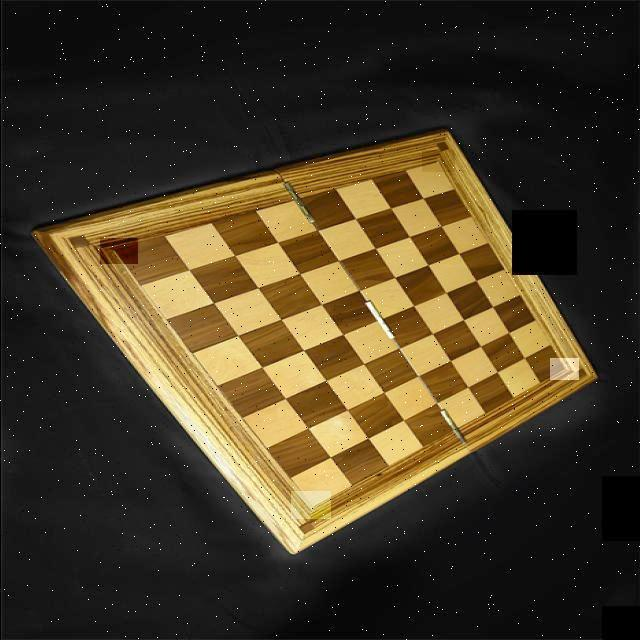chess-table-corners: (290, 491, 330, 519), (99, 238, 137, 264), (421, 150, 454, 172), (549, 358, 578, 380)
